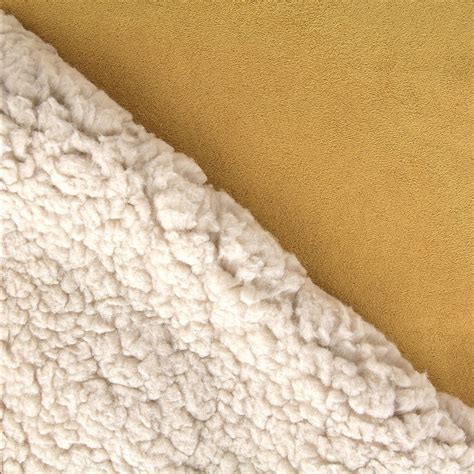gamuza: (2, 1, 474, 413)
